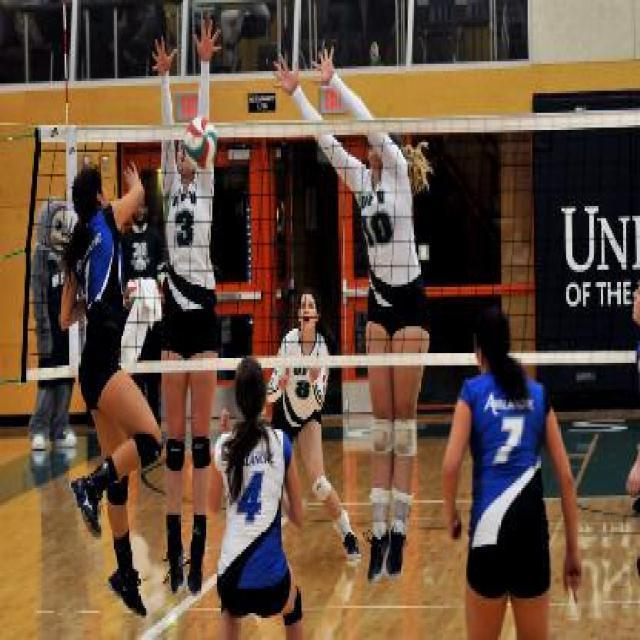volleyball: (181, 117, 217, 169)
